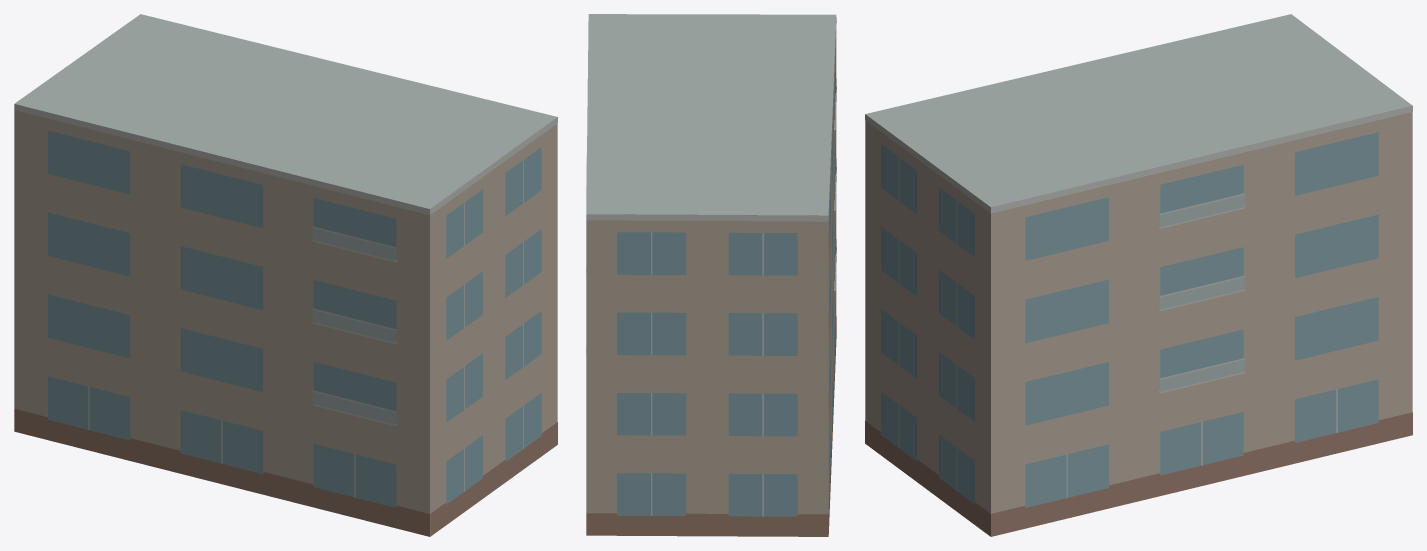
Rendered from survey-upis-32747666.glb.
3 views of the same model, side by side, from view 1: azimuth 30°, elevation 25°; view 2: azimuth 150°, elevation 25°; view 3: azimuth 270°, elevation 25° (orthographic). The views are drawn at different scales.
Parts seen in each view (by area): view 1: survey-upis-32747666.tmp; view 2: survey-upis-32747666.tmp; view 3: survey-upis-32747666.tmp.
Part boxes in pixels (left/top/right/bottom): survey-upis-32747666.tmp: left=14, top=14, right=557, bottom=536; survey-upis-32747666.tmp: left=586, top=14, right=836, bottom=536; survey-upis-32747666.tmp: left=865, top=14, right=1412, bottom=536.
Size of the model in its own units: 16.24 by 12.9 by 19.44.
